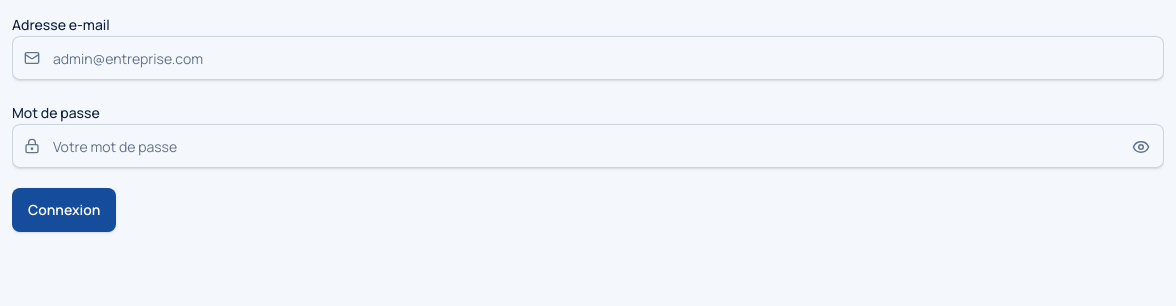
Test case: LoginForm › affiche les erreurs serveur, conserve l’e-mail, vide le mot de passe et focalise le premier champ
Type "adresse-invalide" into the field labelled "Adresse e-mail" at (588, 58), box [12,36,1164,80]
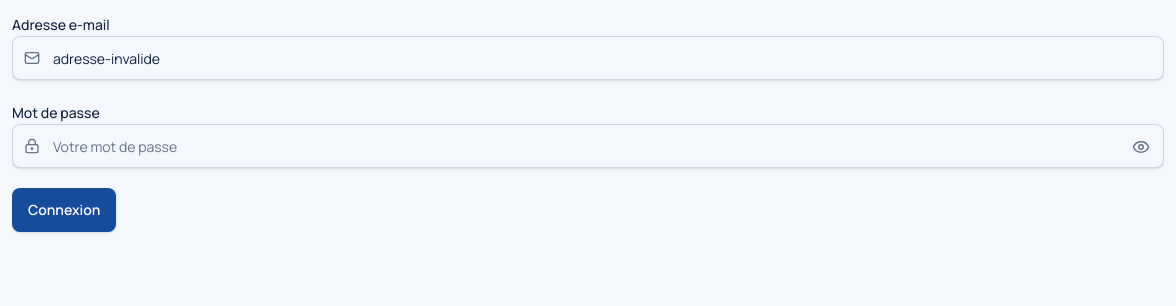
Type "secret" into the password field labelled "Mot de passe" at (588, 146), box [12,124,1164,168]
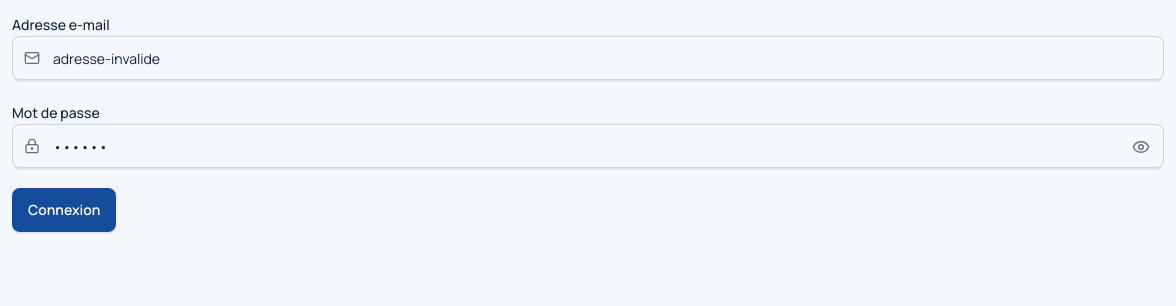
Submit the form labelled "Adresse e-mail"
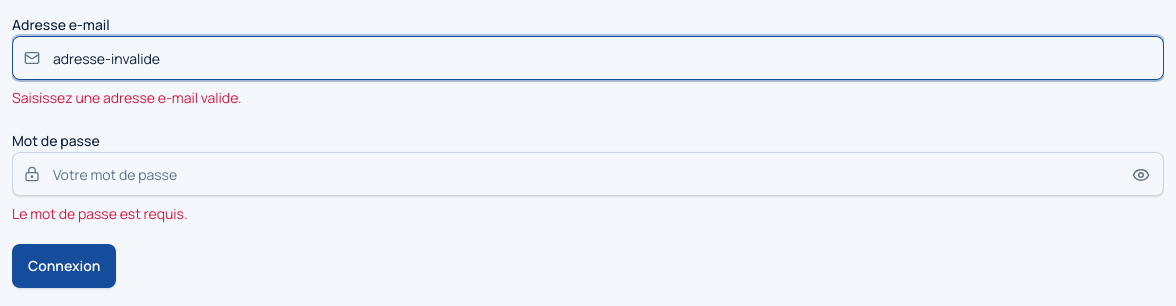
Check: the field labelled "Adresse e-mail" holds "adresse-invalide", box [12,36,1164,80]
Check: the text "Saisissez une adresse e-mail valide." is shown, box [12,88,242,107]
Check: the password field labelled "Mot de passe" is empty, box [12,152,1164,196]
